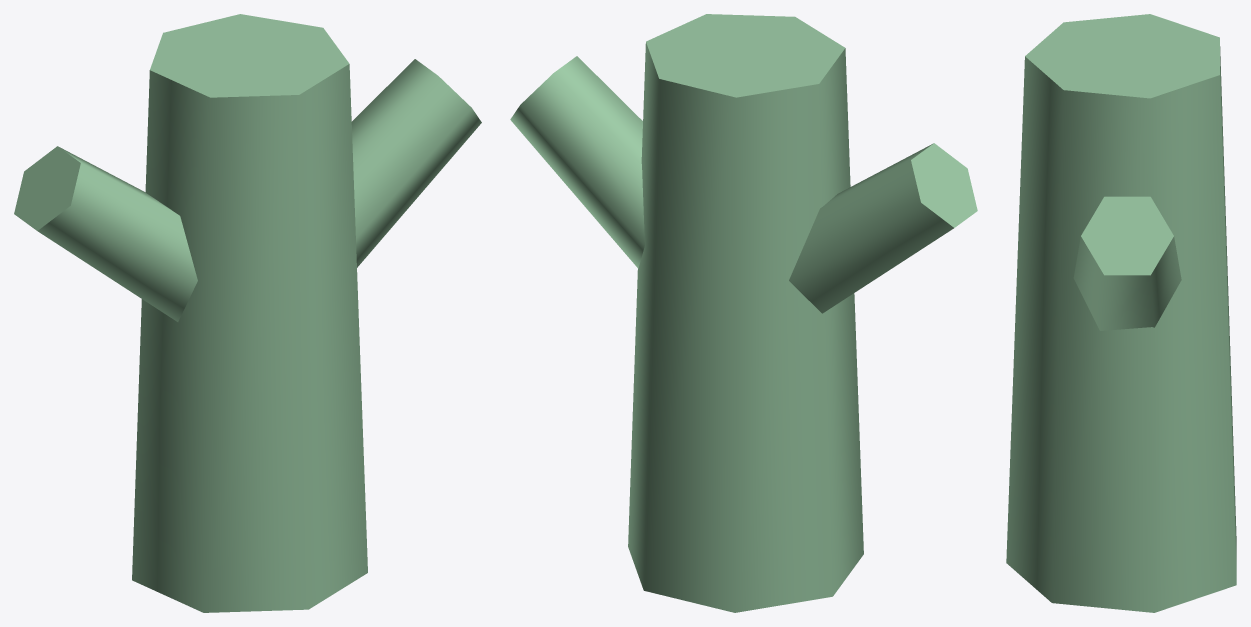
The model's file is cactus.glb.
3 views of the same model, side by side, from view 1: azimuth 30°, elevation 25°; view 2: azimuth 150°, elevation 25°; view 3: azimuth 270°, elevation 25° (orthographic).
Parts seen in each view (by area): view 1: cactus; view 2: cactus; view 3: cactus.
Part boxes in pixels (box(x1,y1,x2,y2)): cactus: box(14, 14, 481, 612); cactus: box(510, 14, 977, 612); cactus: box(1006, 14, 1236, 612).
Bounding box in the file's own units: 1.1 × 1.2 × 0.4943.
